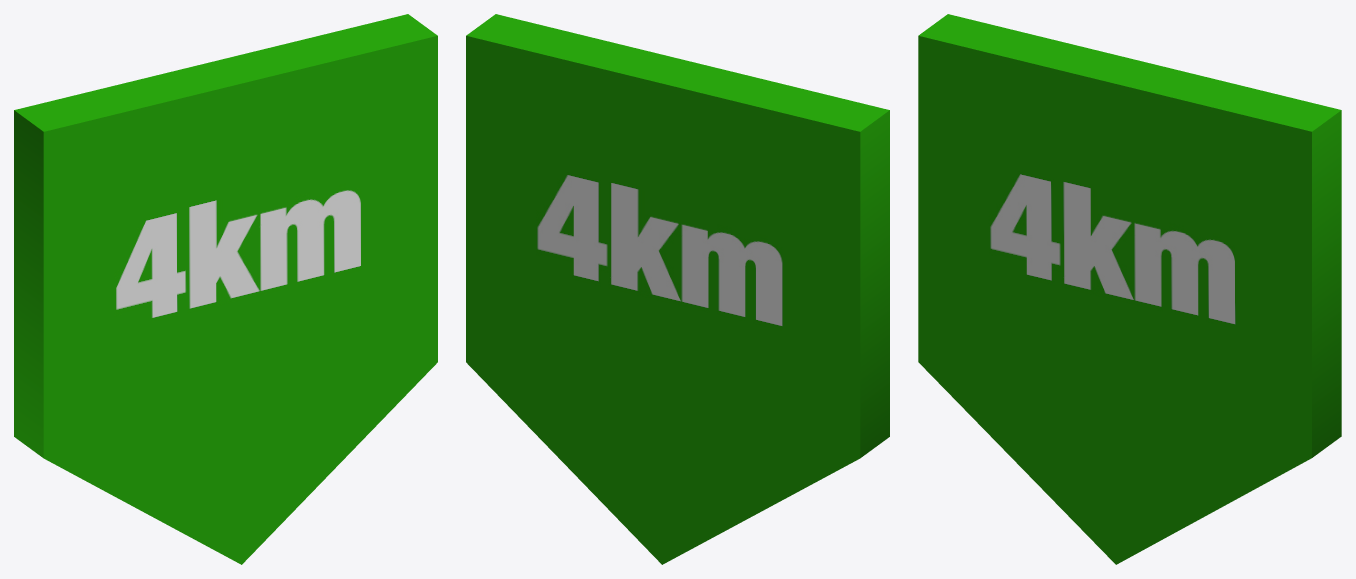
The model's file is 4km marker.fbx.
3 renders of one model, left to right at view 1: azimuth 30°, elevation 25°; view 2: azimuth 150°, elevation 25°; view 3: azimuth 330°, elevation 25°, orthographic.
Parts seen in each view (by area): view 1: pCube1; view 2: pCube1; view 3: pCube1.
Boxes of the visible parts, box(x1,y1,x2,y2) form: pCube1: box(14, 14, 437, 564); pCube1: box(466, 14, 889, 564); pCube1: box(918, 14, 1341, 564).
Size of the model in its own units: 3.96 by 4.62 by 0.5166.
Materials: 1 (1 with a texture image).
